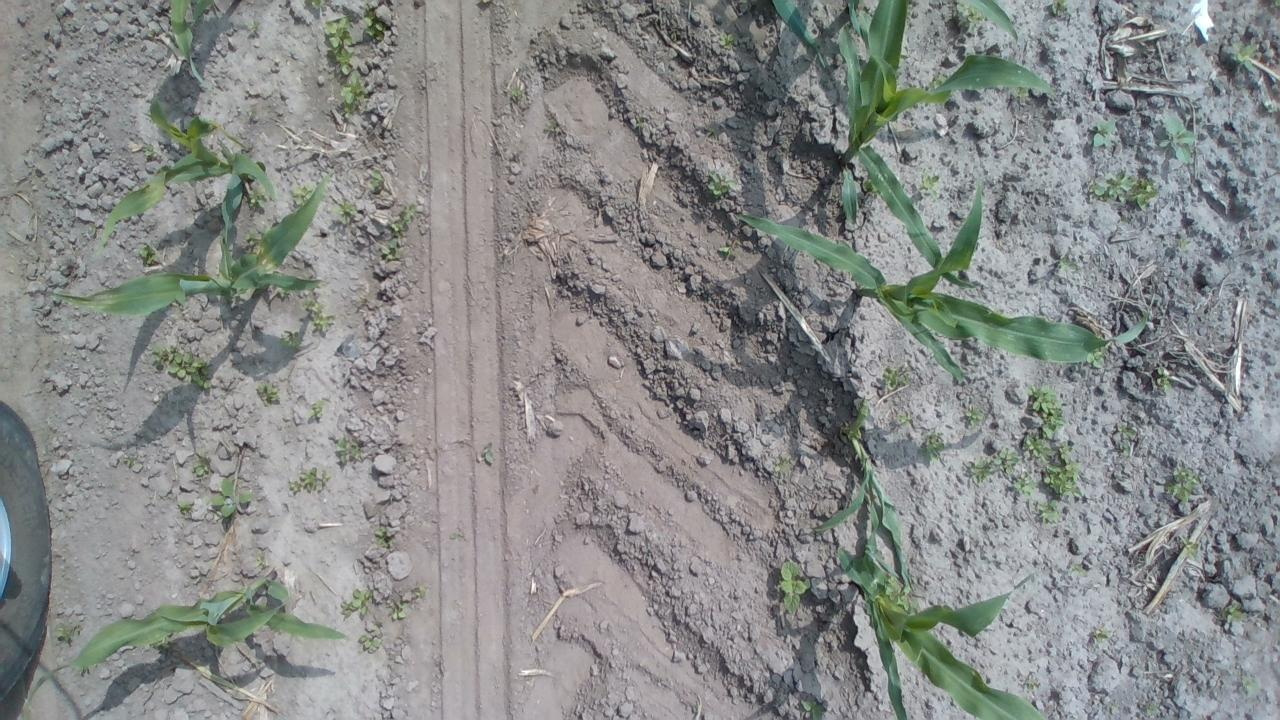Maize: (724, 174, 1092, 397), (832, 0, 1036, 280), (48, 158, 350, 328), (34, 570, 354, 708), (826, 541, 1060, 720), (95, 89, 302, 248), (150, 0, 255, 84)
Weeds: (149, 342, 221, 394), (1024, 384, 1072, 436), (1154, 115, 1197, 163), (319, 21, 358, 72), (777, 558, 807, 614), (212, 478, 251, 518), (390, 582, 427, 624), (1166, 463, 1202, 506), (1040, 460, 1080, 498), (335, 76, 368, 118), (286, 466, 334, 494), (960, 454, 1004, 483), (1223, 33, 1258, 68), (334, 434, 371, 467), (355, 620, 387, 658), (874, 362, 908, 396), (1121, 177, 1160, 206), (338, 584, 370, 618), (302, 298, 334, 332), (388, 203, 419, 237), (362, 9, 392, 44), (1110, 419, 1139, 453), (705, 169, 734, 200), (1088, 171, 1120, 199), (1086, 119, 1118, 147), (134, 241, 166, 269), (920, 430, 949, 460), (368, 522, 398, 551), (961, 402, 988, 434), (1020, 428, 1047, 460), (952, 4, 986, 29), (798, 696, 832, 720), (1084, 348, 1112, 376), (994, 444, 1021, 473), (54, 624, 84, 650), (1033, 500, 1062, 526), (288, 182, 315, 209), (254, 378, 282, 404), (1046, 436, 1072, 464), (477, 441, 499, 474), (148, 634, 178, 658), (1178, 537, 1205, 563), (1010, 468, 1034, 496), (366, 168, 388, 198), (333, 196, 359, 220), (379, 238, 404, 262), (190, 454, 213, 479), (1088, 622, 1110, 648), (121, 448, 143, 472), (1222, 600, 1244, 624), (1142, 700, 1168, 720), (1171, 235, 1194, 256), (1053, 256, 1079, 274), (917, 172, 938, 194), (176, 495, 197, 516), (888, 406, 908, 428), (247, 188, 270, 207), (772, 459, 796, 477), (448, 526, 473, 543), (1154, 371, 1173, 393), (1261, 98, 1280, 120), (1236, 674, 1258, 693), (1065, 560, 1088, 578), (1019, 675, 1040, 694), (1050, 0, 1074, 16), (716, 31, 736, 50), (306, 402, 324, 422), (279, 330, 298, 348), (716, 240, 732, 258), (544, 120, 560, 138), (142, 144, 158, 158), (704, 126, 720, 139), (634, 116, 646, 132), (507, 86, 520, 98), (1264, 1, 1280, 10)
